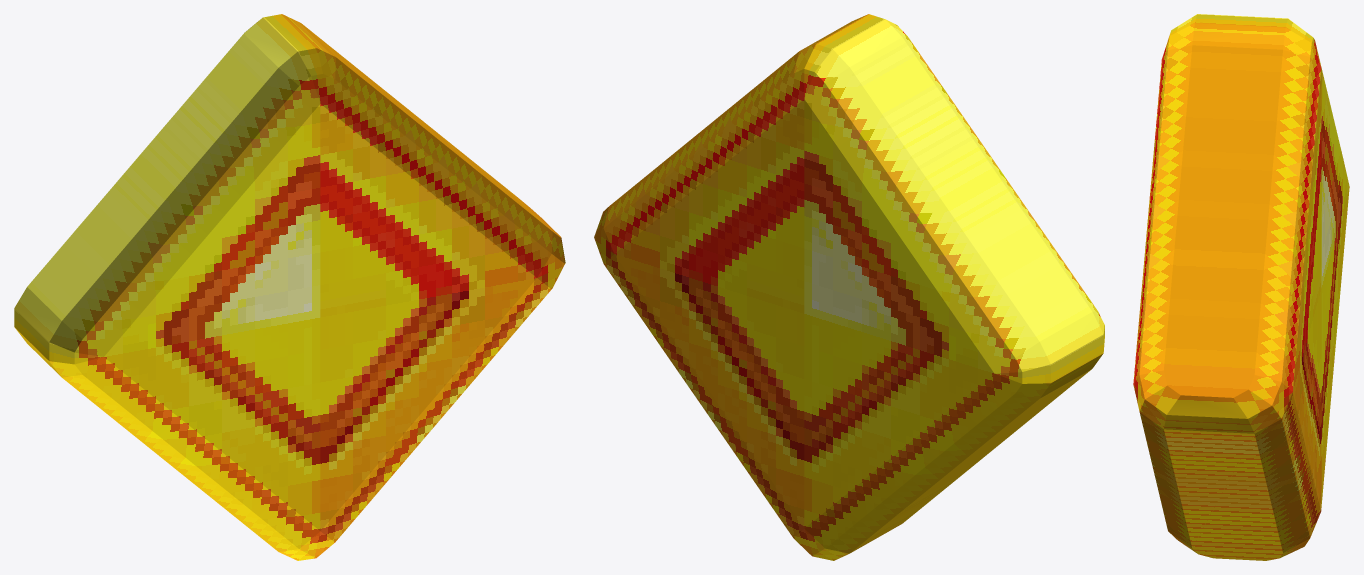
Rendered from rotate.fbx.
3 renders of one model, left to right at view 1: azimuth 30°, elevation 25°; view 2: azimuth 150°, elevation 25°; view 3: azimuth 270°, elevation 25°, orthographic. The views are drawn at different scales.
Parts seen in each view (by area): view 1: GameObject; view 2: GameObject; view 3: GameObject.
Boxes of the visible parts, x1,y1,x2,y2 form: GameObject: [14, 14, 565, 560]; GameObject: [594, 14, 1104, 560]; GameObject: [1133, 14, 1349, 560].
Size of the model in its own units: 0.4053 by 0.4021 by 0.1479.
1 material, 1 textured.
